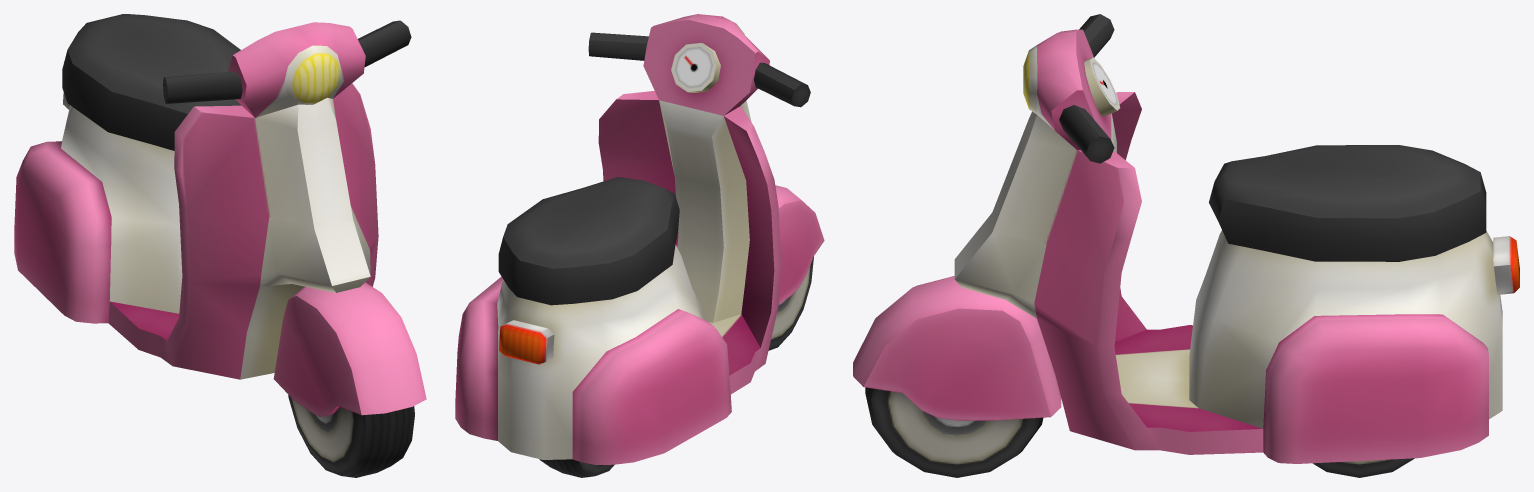
Rendered from scooter.FBX.
3 views of the same model, side by side, from view 1: azimuth 30°, elevation 25°; view 2: azimuth 150°, elevation 25°; view 3: azimuth 270°, elevation 25° (orthographic). The views are drawn at different scales.
Visible parts, largest first — view 1: scooter; view 2: scooter; view 3: scooter.
Part boxes in pixels (x1,y1,x2,y2): scooter: [14, 14, 426, 477]; scooter: [455, 14, 824, 477]; scooter: [853, 14, 1519, 477].
Size of the model in its own units: 26.53 by 40.22 by 56.81.
